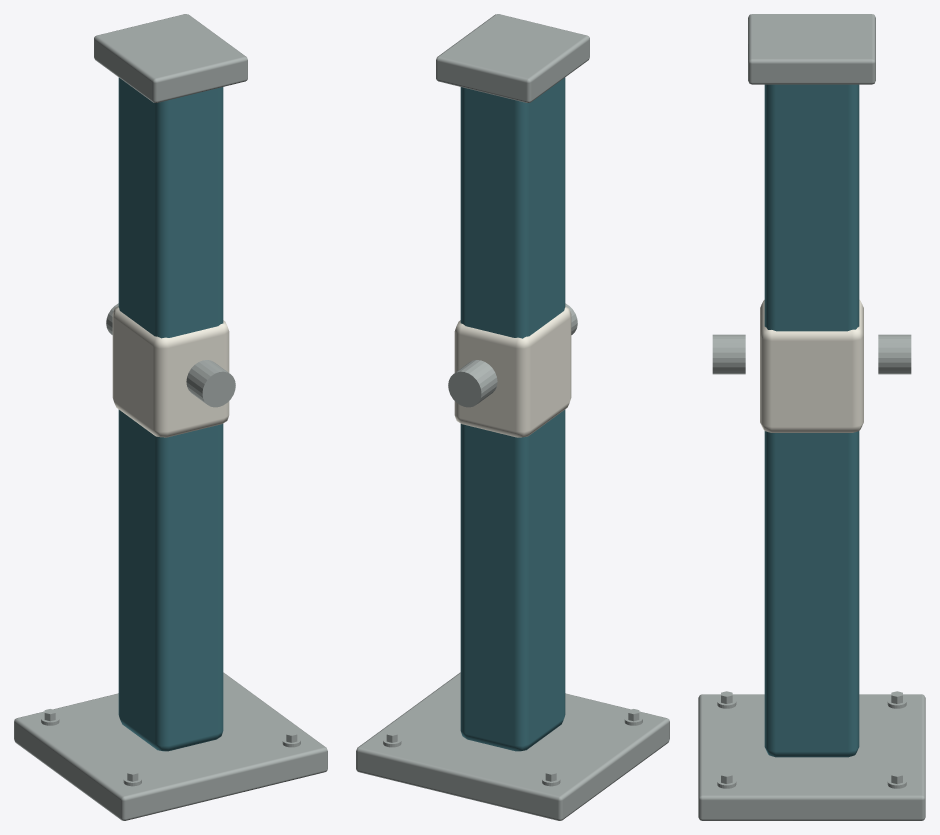
Rendered from optician-and-optical-lens-workshop-optician-and-optica-3e0c0da8__31669.glb.
3 renders of one model, left to right at view 1: azimuth 30°, elevation 25°; view 2: azimuth 150°, elevation 25°; view 3: azimuth 270°, elevation 25°, orthographic. The views are drawn at different scales.
Parts seen in each view (by area): view 1: optician-and-optical-lens-workshop-instrument-support-column (×3); view 2: optician-and-optical-lens-workshop-instrument-support-column (×3); view 3: optician-and-optical-lens-workshop-instrument-support-column (×3).
Part boxes in pixels (x1,y1,x2,y2): optician-and-optical-lens-workshop-instrument-support-column (×3): (14,14,327,820); optician-and-optical-lens-workshop-instrument-support-column (×3): (356,14,669,820); optician-and-optical-lens-workshop-instrument-support-column (×3): (698,14,925,820).
Size of the model in its own units: 0.52 by 1.71 by 0.4801.
